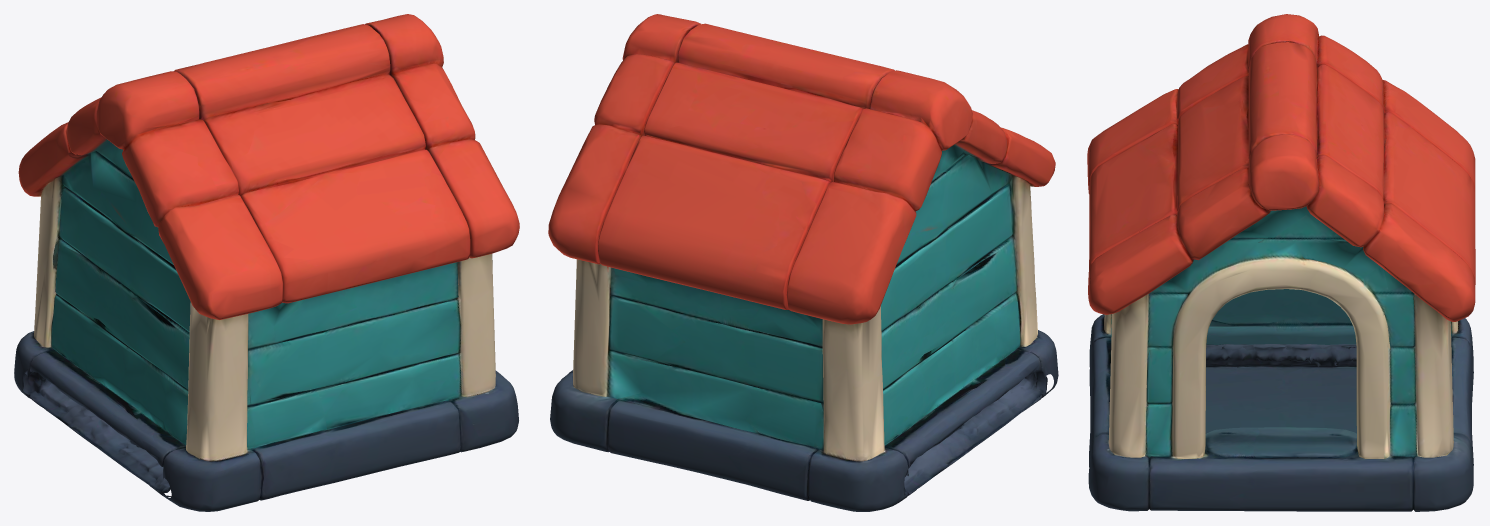
The model's file is doghouse.glb.
3 views of the same model, side by side, from view 1: azimuth 30°, elevation 25°; view 2: azimuth 150°, elevation 25°; view 3: azimuth 270°, elevation 25° (orthographic).
Parts seen in each view (by area): view 1: tripo_node_52b8b83e-e79b-4403-bbd7-a13be14bde5d; view 2: tripo_node_52b8b83e-e79b-4403-bbd7-a13be14bde5d; view 3: tripo_node_52b8b83e-e79b-4403-bbd7-a13be14bde5d.
Boxes of the visible parts, x1=… form: tripo_node_52b8b83e-e79b-4403-bbd7-a13be14bde5d: x1=14, y1=14, x2=519, y2=511; tripo_node_52b8b83e-e79b-4403-bbd7-a13be14bde5d: x1=548, y1=14, x2=1058, y2=511; tripo_node_52b8b83e-e79b-4403-bbd7-a13be14bde5d: x1=1087, y1=14, x2=1475, y2=511.
Size of the model in its own units: 0.9998 by 0.9848 by 0.9844.
Materials: 1 (1 with a texture image).
